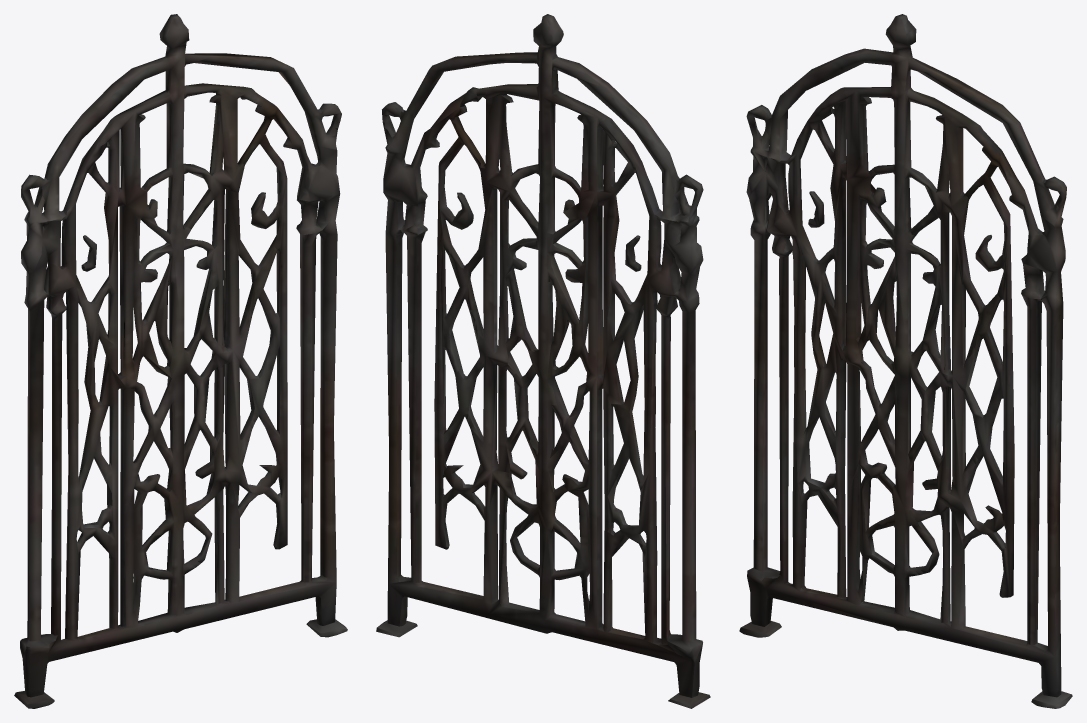
Rendered from chipped-iron-iron-gate-v001.glb.
The picture shows the model from 3 angles, left to right: view 1: azimuth 30°, elevation 25°; view 2: azimuth 150°, elevation 25°; view 3: azimuth 330°, elevation 25°; orthographic projection.
Visible parts, largest first — view 1: chipped-iron-iron-gate; view 2: chipped-iron-iron-gate; view 3: chipped-iron-iron-gate.
Boxes of the visible parts, <box> form: chipped-iron-iron-gate: <box>14,14,347,708</box>; chipped-iron-iron-gate: <box>376,14,710,708</box>; chipped-iron-iron-gate: <box>739,14,1072,708</box>.
Bounding box in the file's own units: 1.19 × 2.29 × 0.1211.
Materials: 1 (1 with a texture image).
